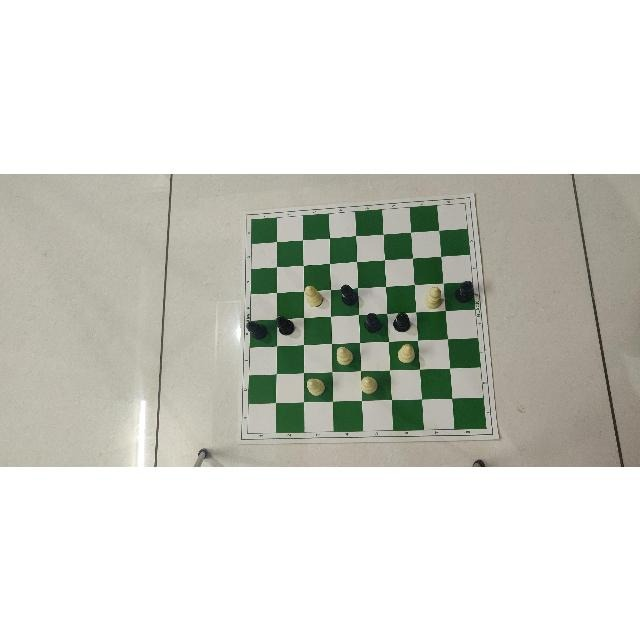black-bishop: (275, 311, 295, 337), (455, 278, 475, 304), (393, 307, 412, 332), (247, 318, 269, 339), (340, 281, 358, 306), (365, 309, 382, 334)
white-bishop: (304, 282, 324, 308), (422, 283, 442, 309), (333, 343, 354, 367), (305, 377, 326, 397), (396, 342, 416, 363), (359, 375, 378, 393)
